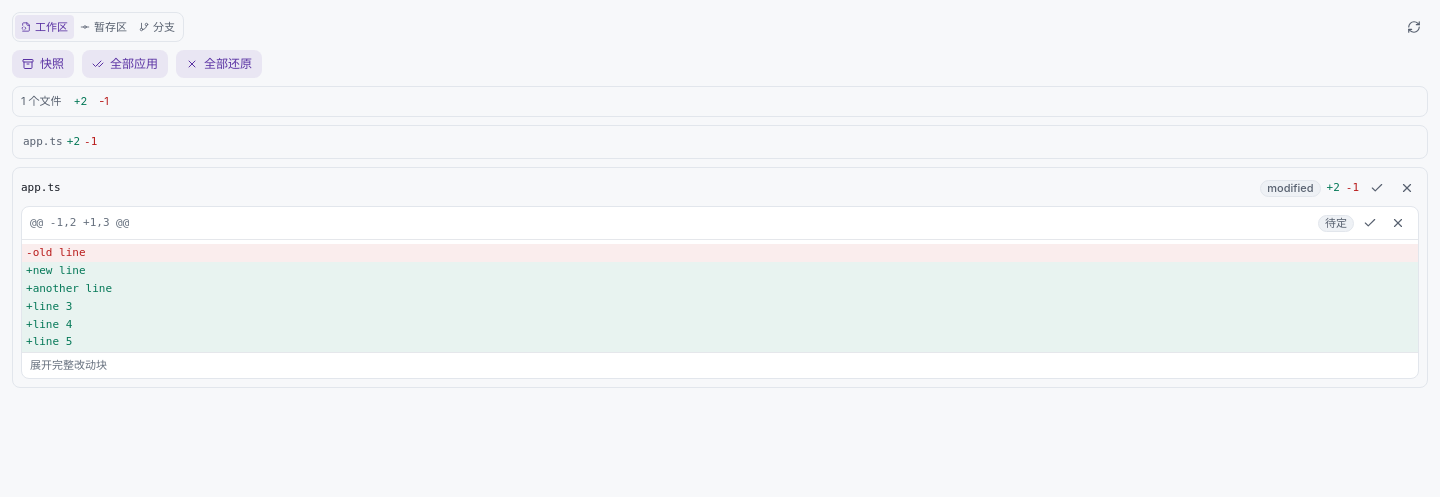
Test: PatchPreviewPanel › keeps long hunks compact but lets users inspect the complete hunk
Check: the element with test id "patch-hunk-app.ts-0-1-1" is shown, box [21,206,1419,378]
Check: the text "function answer" is not shown
Click the button "展开完整改动块": (68,365) [22,352,1418,378]
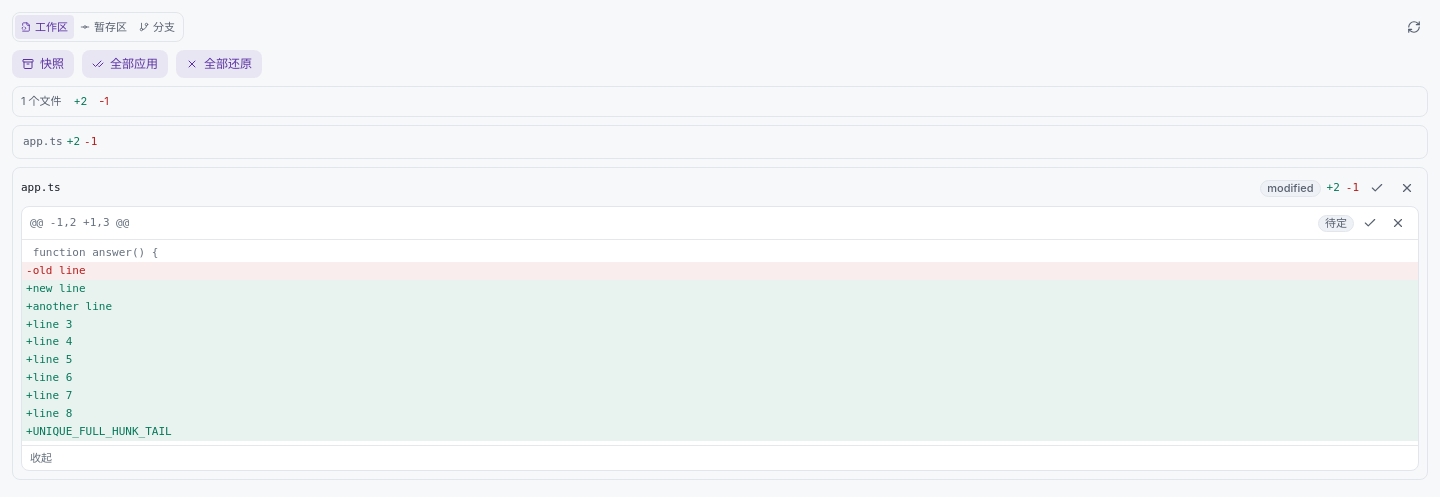
Check: the text "function answer() {" is shown, box [33,246,158,259]
Check: the text "+UNIQUE_FULL_HUNK_TAIL" is shown, box [22,423,1418,441]
Check: the button "收起" is shown, box [22,445,1418,470]
